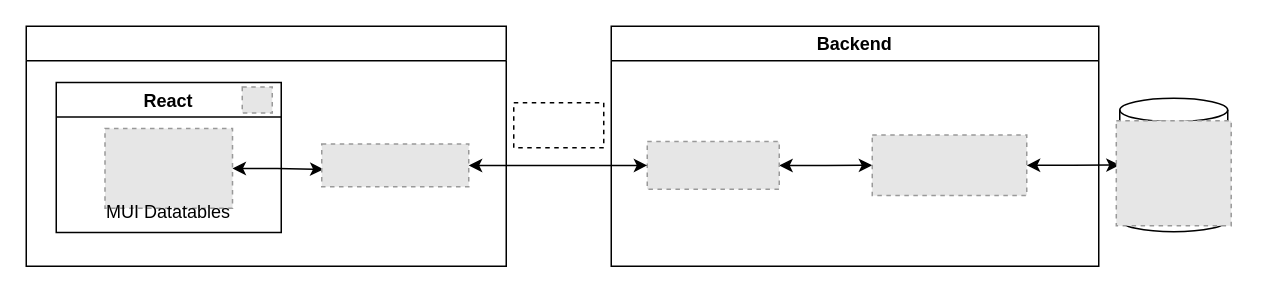
Some shapes in this 1269 by 293 pixel diagram are drawn without their labels. Grey dashed boxes stand in for pictures. Each missing label, with the box of its shape:
API REST: (512, 101, 604, 148)
Frontend: (25, 25, 506, 266)
